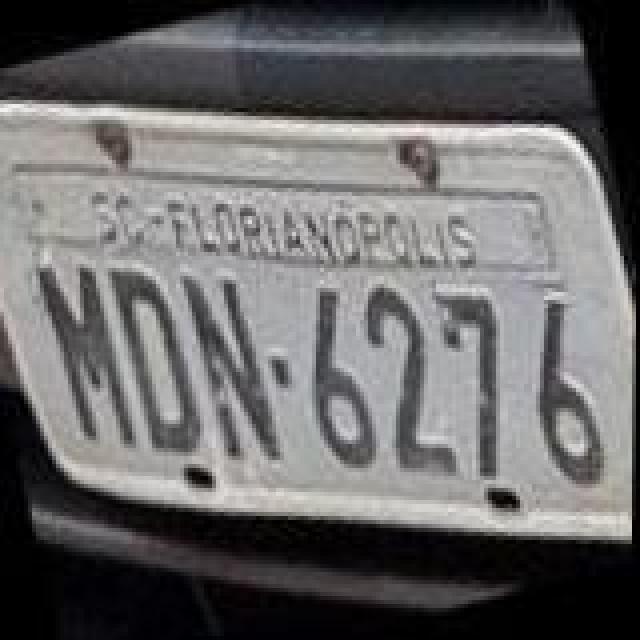2: (354, 276, 470, 500)
6: (510, 292, 618, 496), (282, 280, 390, 480)
7: (428, 272, 540, 484)
D: (104, 252, 216, 464)
M: (30, 252, 146, 464)
N: (178, 254, 294, 478)
